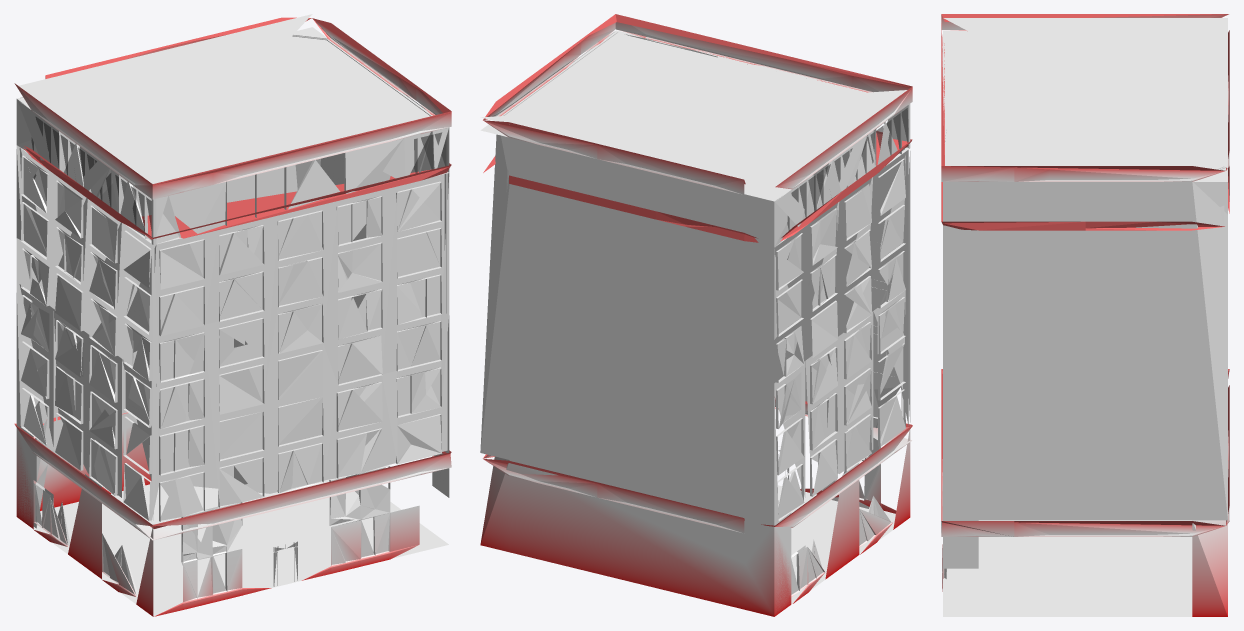
Rendered from building-large.glb.
3 renders of one model, left to right at view 1: azimuth 30°, elevation 25°; view 2: azimuth 150°, elevation 25°; view 3: azimuth 270°, elevation 25°, orthographic. The views are drawn at different scales.
Visible parts, largest first — view 1: Building_Large_2; view 2: Building_Large_2; view 3: Building_Large_2.
Part boxes in pixels (x1=…): Building_Large_2: x1=14, y1=14, x2=451, y2=616; Building_Large_2: x1=480, y1=14, x2=912, y2=616; Building_Large_2: x1=941, y1=14, x2=1229, y2=616.
Bounding box in the file's own units: 20.2 × 28 × 16.2.
